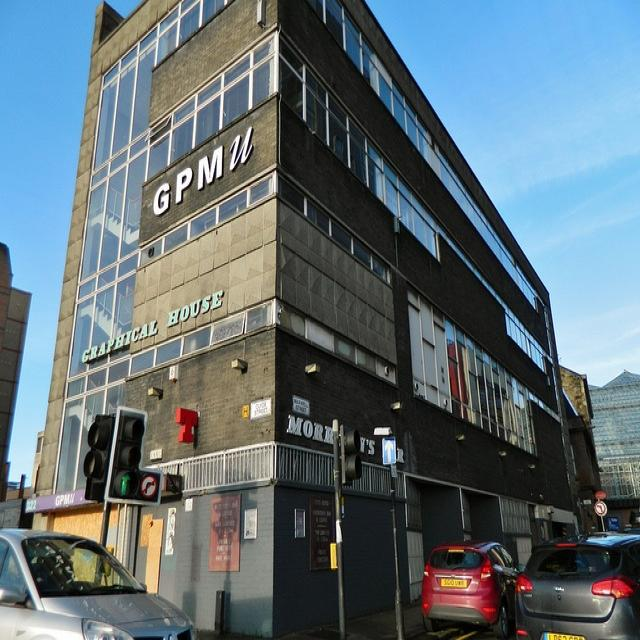car: (0, 527, 197, 639), (515, 531, 638, 637), (418, 540, 523, 632)
pole: (328, 417, 350, 636), (386, 473, 407, 638)
